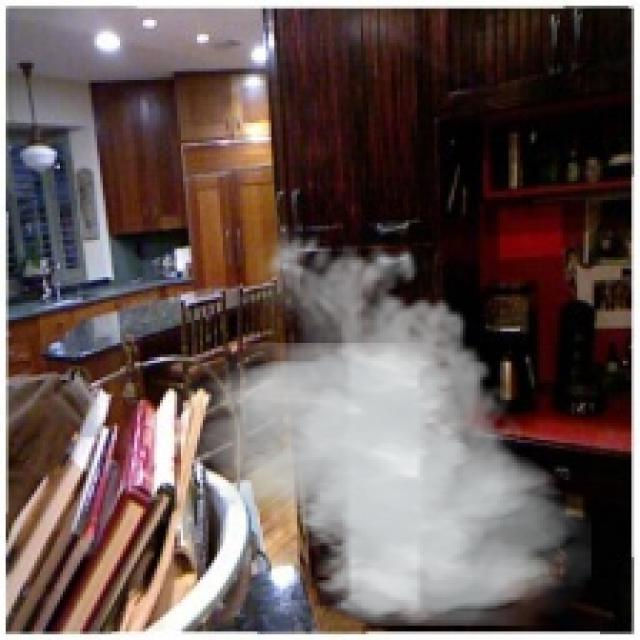Smoke: (177, 223, 592, 626)
